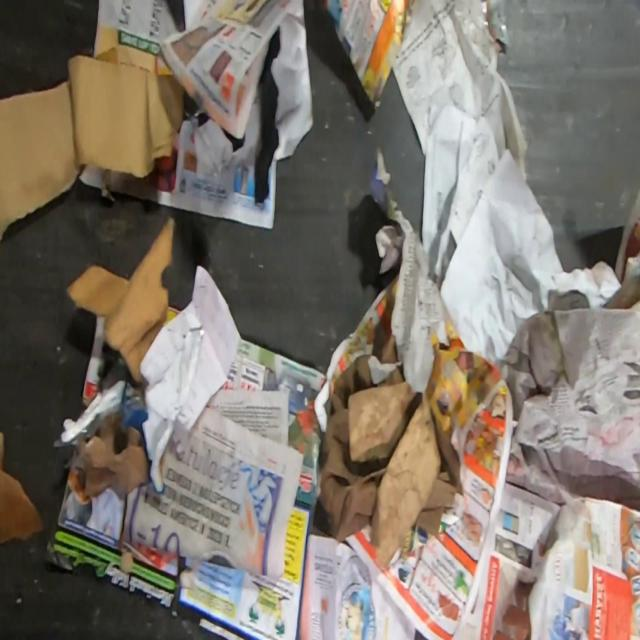cardboard: (0, 46, 184, 244), (318, 334, 463, 573), (66, 218, 178, 384), (68, 412, 152, 501), (0, 432, 45, 545)
